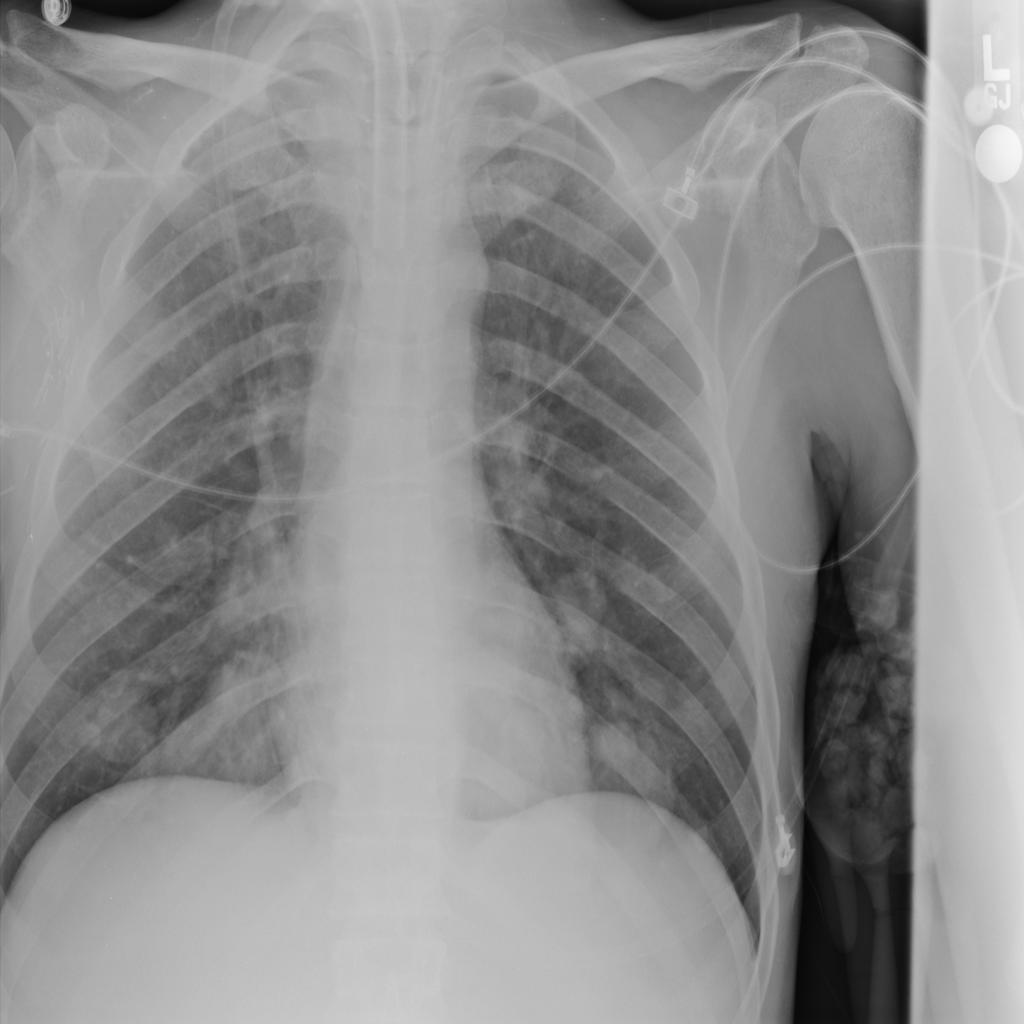nodule: (64, 663, 175, 779), (574, 706, 681, 815), (541, 560, 616, 652), (616, 666, 670, 717)
